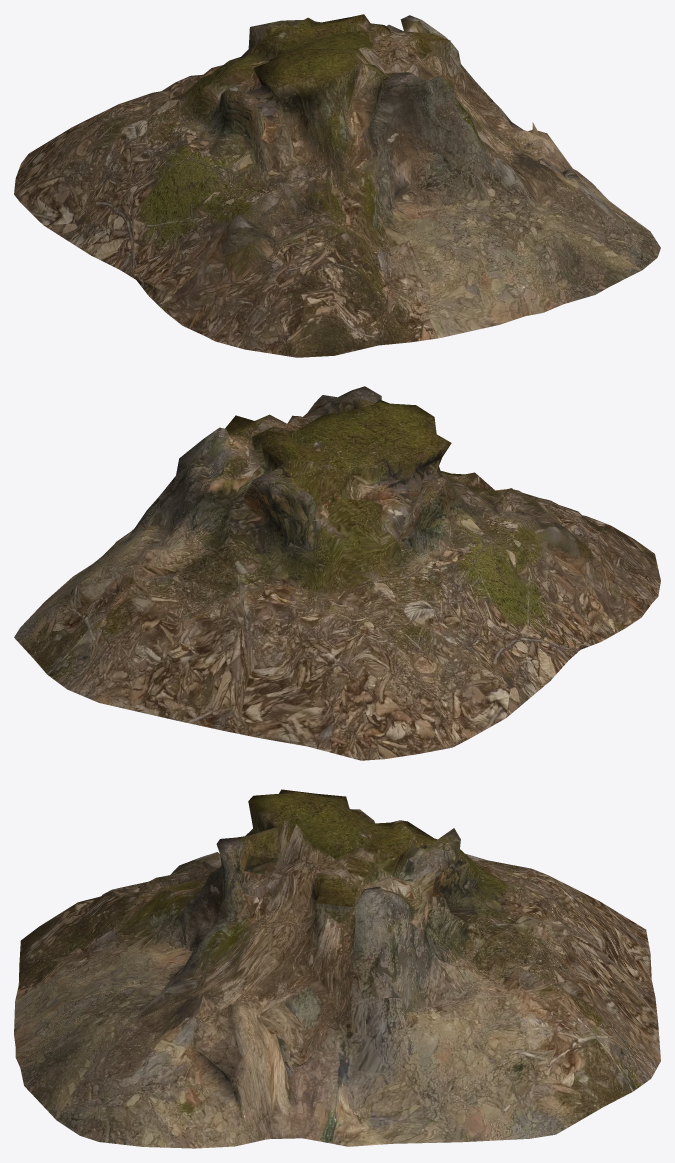
File: pv_stump.glb
3 views of the same model, one above another, from view 1: azimuth 30°, elevation 25°; view 2: azimuth 150°, elevation 25°; view 3: azimuth 270°, elevation 25° (orthographic). The views are drawn at different scales.
Visible parts, largest first — view 1: pv_stump; view 2: pv_stump; view 3: pv_stump.
Boxes of the visible parts, x1,y1,x2,y2 form: pv_stump: (14,14,660,357); pv_stump: (14,386,660,760); pv_stump: (14,789,660,1148).
Bounding box in the file's own units: 1.43 × 0.5749 × 1.59.
1 material, 1 textured.
